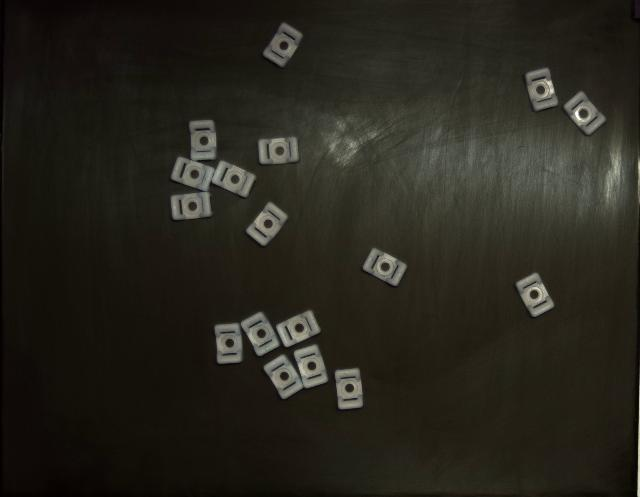first_side: (562, 91, 606, 135), (246, 202, 288, 246), (262, 22, 302, 68), (515, 272, 555, 318), (240, 312, 280, 356), (276, 310, 321, 348), (264, 355, 302, 400), (362, 249, 408, 286), (211, 161, 256, 198), (294, 345, 329, 389), (171, 158, 215, 191), (189, 120, 218, 161), (259, 136, 300, 165), (335, 369, 364, 410), (170, 192, 212, 220), (215, 324, 242, 365), (258, 348, 259, 349)
